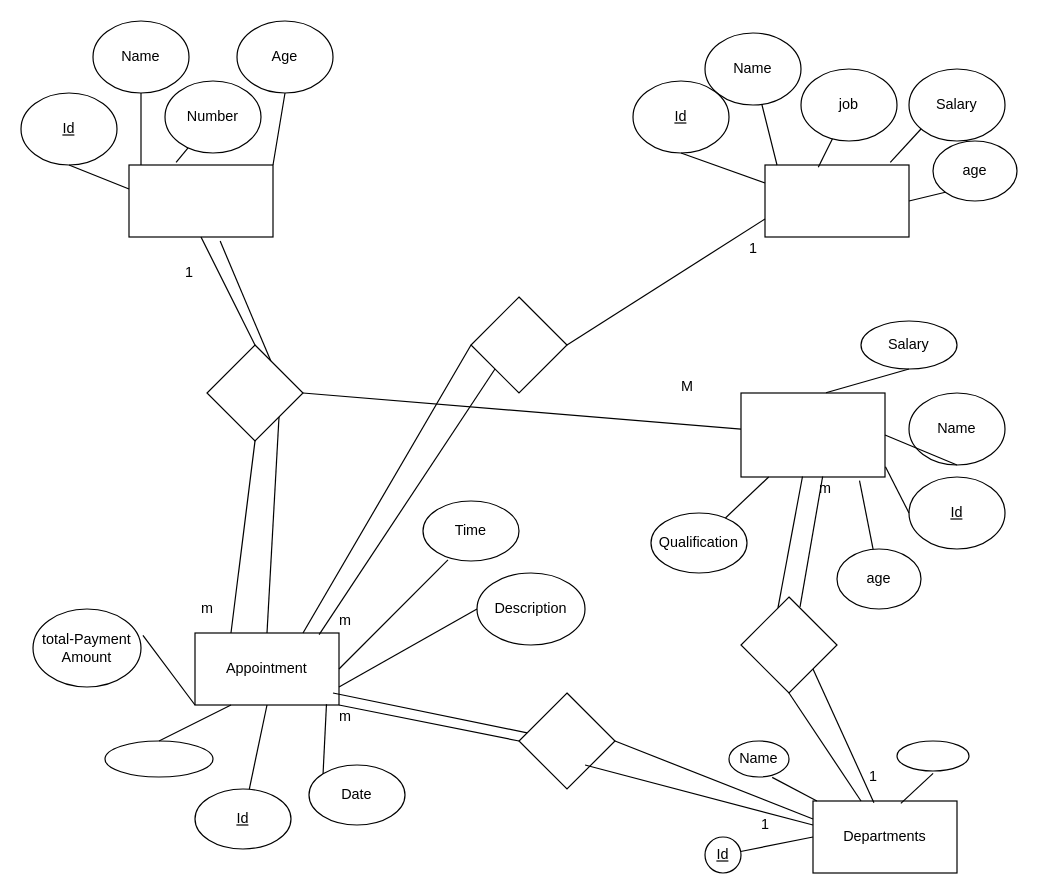
Some shapes in this 1038 by 894 pixel diagram are drawn without their labels. Each missing label, with the centre of its shape:
"Amount" belongs at point 932,755.
"Doctor" belongs at point 812,434.
"Employess" belongs at point 836,200.
"Have" belongs at point 566,740.
"ordering list num" belongs at point 158,758.
"Patients" belongs at point 200,200.
"Supervise" belongs at point 518,344.
"Take" belongs at point 254,392.
"Works in" belongs at point 788,644.
